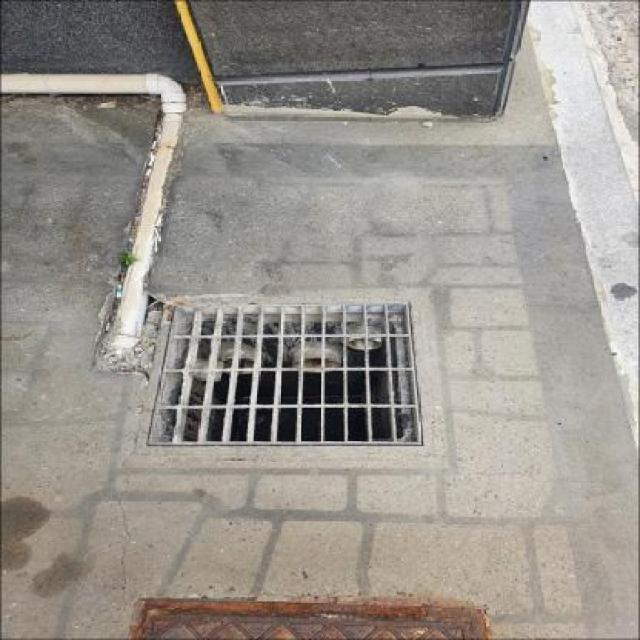Drain Hole: (148, 280, 437, 478)
